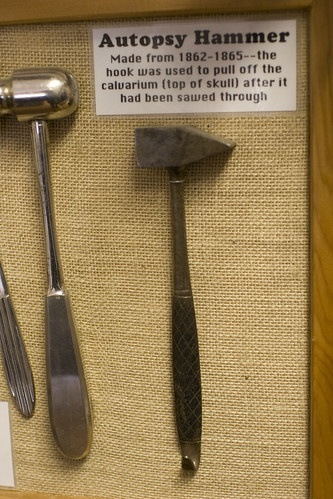hammer: (134, 123, 237, 472)
